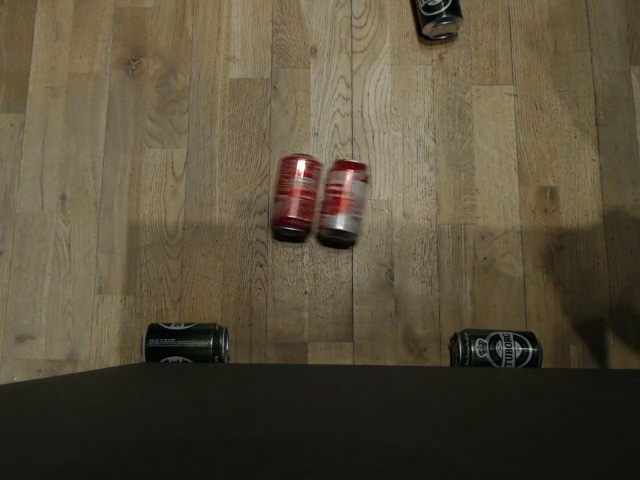beer: (138, 318, 232, 366), (447, 327, 542, 372), (405, 0, 464, 43)
cola: (267, 151, 325, 242), (319, 156, 370, 241)
